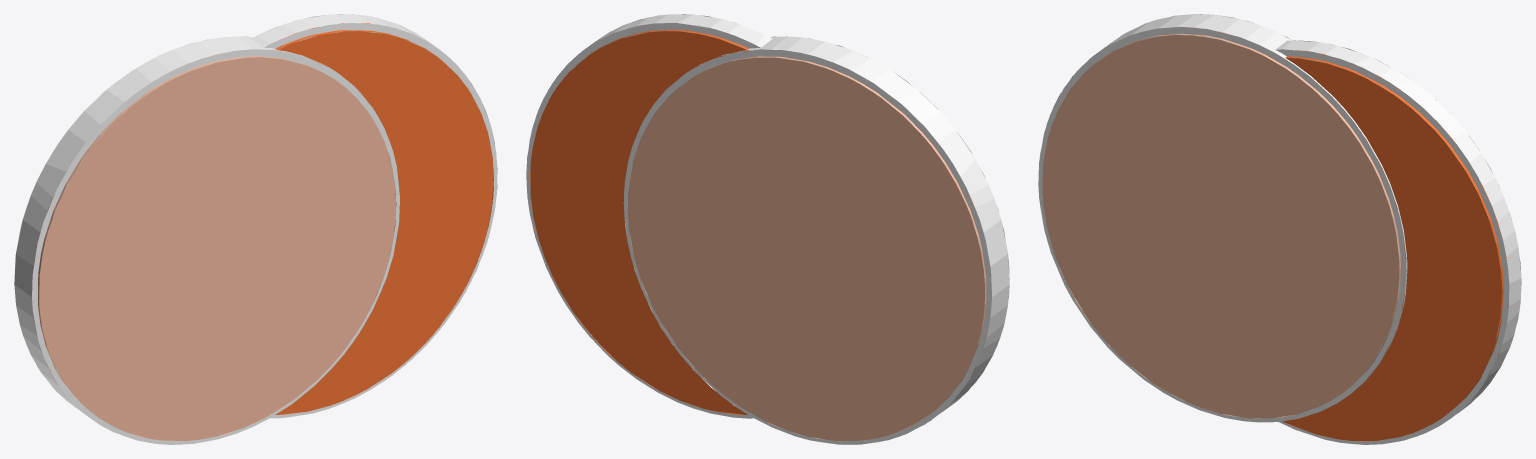
File: GEO_Stock_02.glb
3 renders of one model, left to right at view 1: azimuth 30°, elevation 25°; view 2: azimuth 150°, elevation 25°; view 3: azimuth 330°, elevation 25°, orthographic.
Visible parts, largest first — view 1: Geo_Stock_02; view 2: Geo_Stock_02; view 3: Geo_Stock_02.
Boxes of the visible parts, bbox=[...] form: Geo_Stock_02: bbox=[14, 14, 497, 444]; Geo_Stock_02: bbox=[526, 14, 1009, 444]; Geo_Stock_02: bbox=[1038, 14, 1521, 444].
Bounding box in the file's own units: 3.83 × 3.01 × 0.2934.
